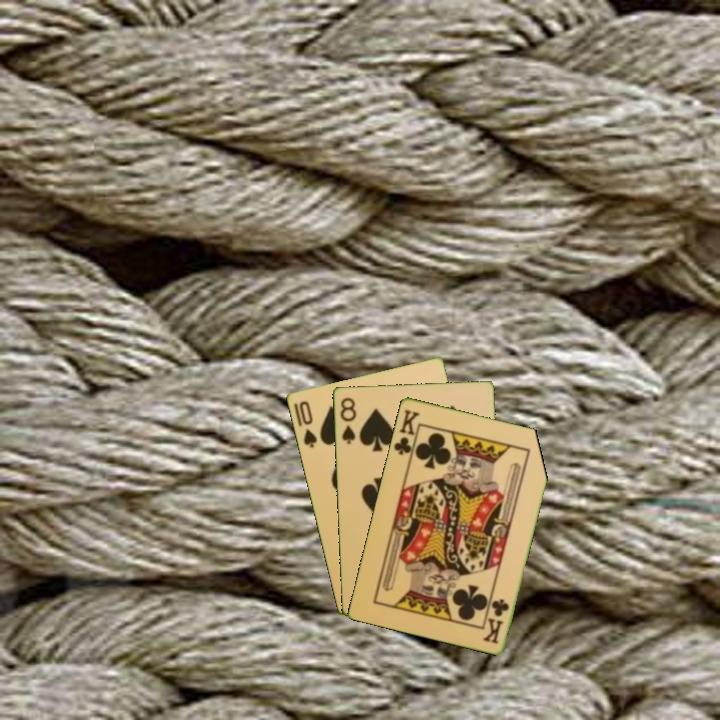10s: (290, 397, 319, 451)
8s: (336, 394, 359, 447)
Kc: (390, 405, 422, 462), (480, 595, 512, 646)
